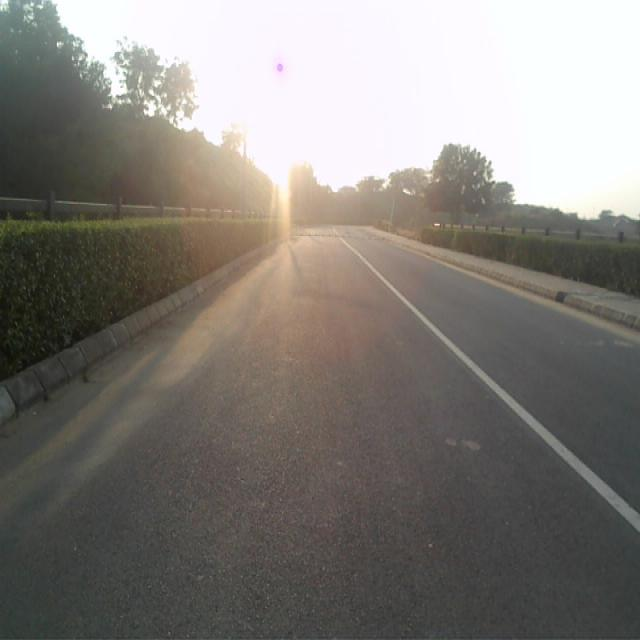lane: (0, 238, 640, 640)
